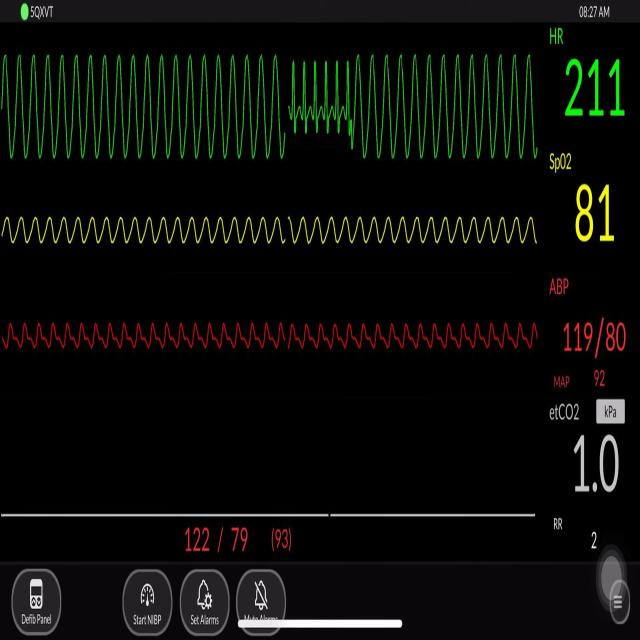danger: (1, 49, 285, 164), (361, 43, 542, 168), (292, 49, 353, 144)
